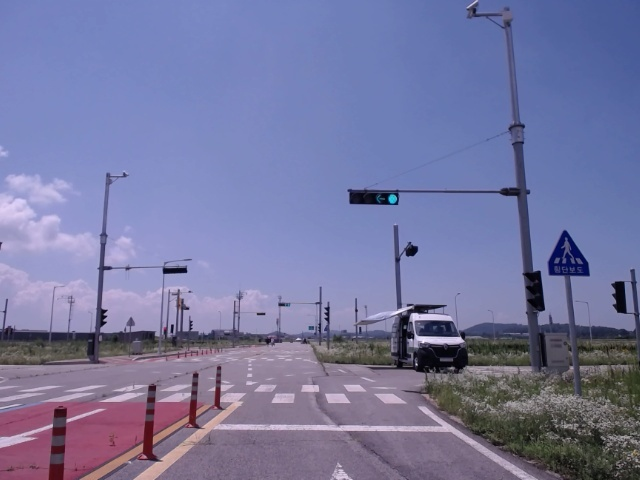all_green_4: (350, 191, 399, 206)
